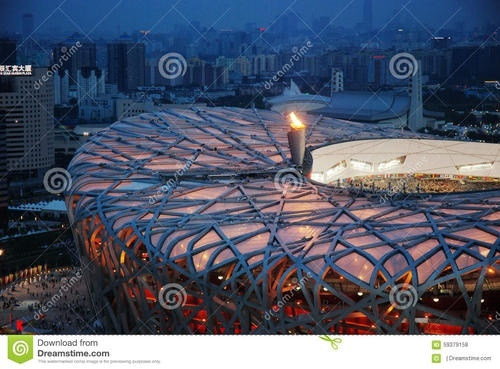fire: (286, 109, 306, 130)
